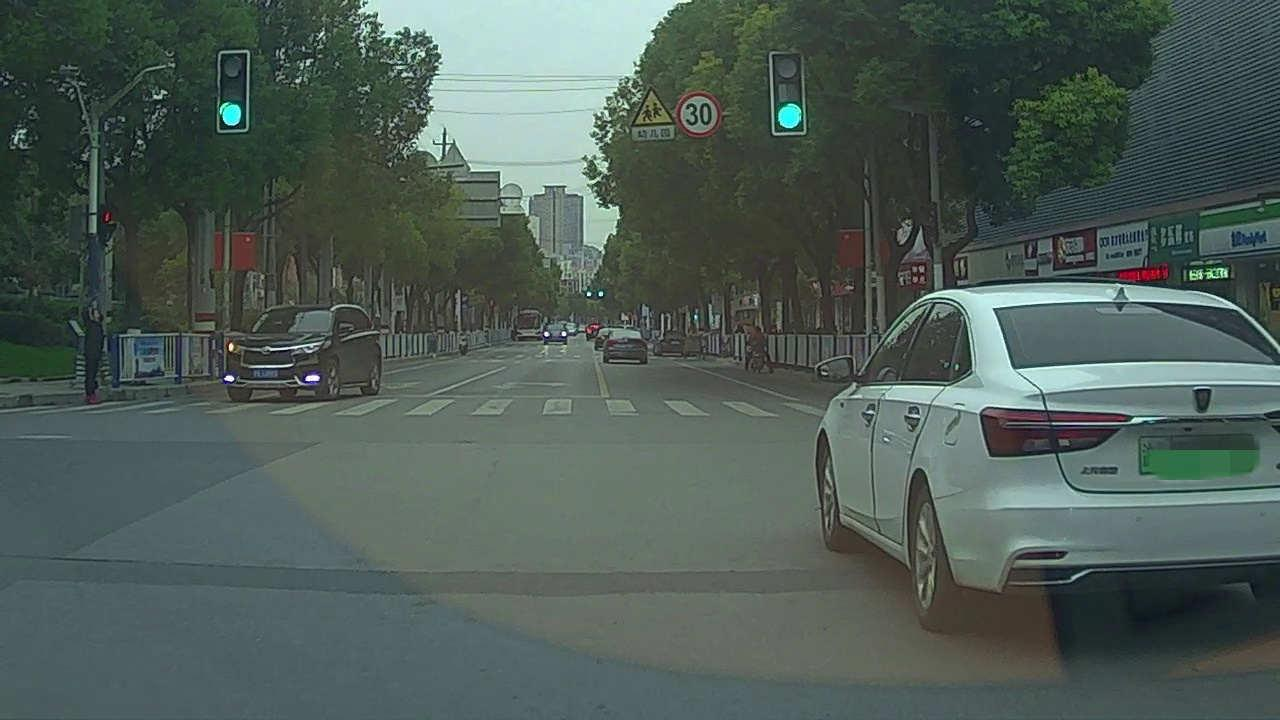traffic_light: (771, 56, 803, 134), (222, 52, 246, 128)
